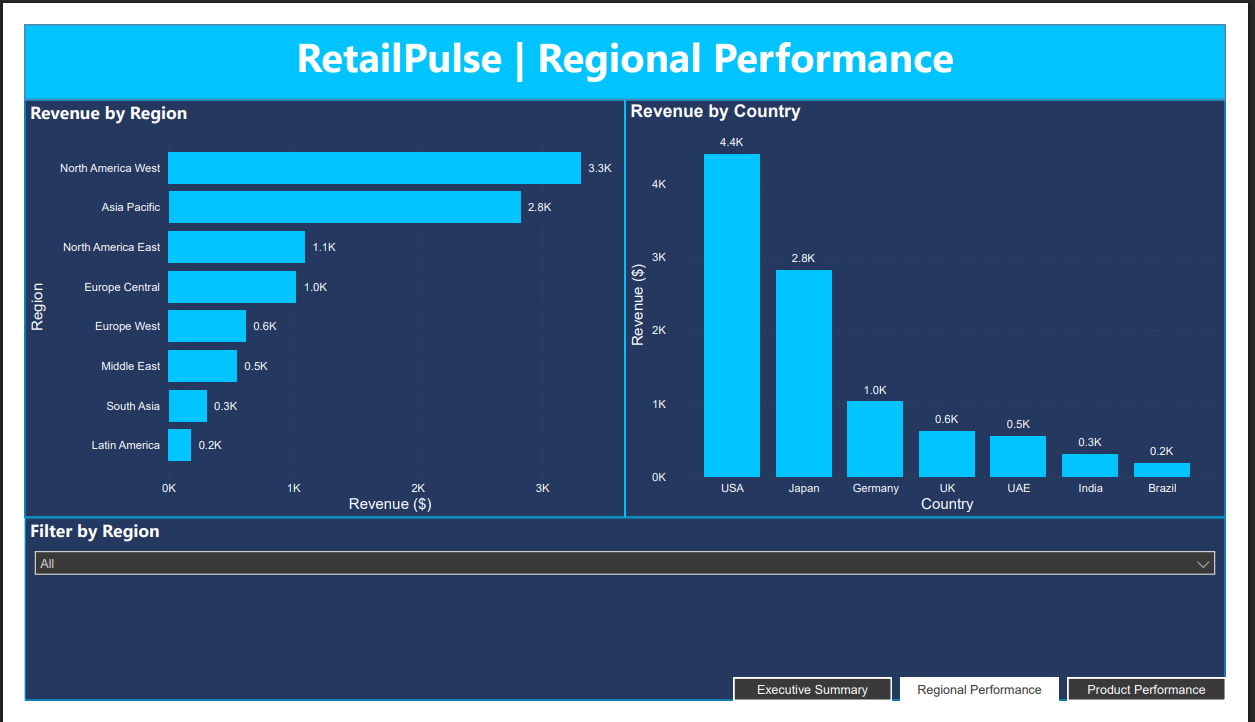

Layout of this report page (visuals, bound fields, positions):
{"tool":"powerbi","page":{"name":"Regional Performance","canvas":[1280,720],"ordinal":1},"visuals":[{"type":"clusteredBarChart","title":"Revenue by Region","fields":{"Category":["public regions.region_name"],"Y":["Sum(public order_items.price_at_purchase)"]},"box":[0,80,640,445],"z":0},{"type":"clusteredColumnChart","title":"Revenue by Country","fields":{"Category":["public regions.country"],"Y":["Sum(public order_items.price_at_purchase)"]},"box":[640,80,640,445],"z":1000},{"type":"slicer","title":"Filter by Region","fields":{"Values":["public regions.region_name"]},"box":[0,525,1280,195],"z":2000},{"type":"shape","box":[0,0,1280,80],"z":2001},{"type":"textbox","box":[0,0,1280,80],"z":2002},{"type":"pageNavigator","box":[756.2,696.2,523.8,23.8],"z":2003}]}

Visuals, with their boxes in screenshot pixels (x1, y1, x2, y2), scaled from the page's 1280x720 canvas onto the 1255x722 screenshot:
"Revenue by Region" clusteredBarChart: [0, 80, 628, 526]
"Revenue by Country" clusteredColumnChart: [628, 80, 1254, 526]
"Filter by Region" slicer: [0, 526, 1254, 721]
shape: [0, 0, 1254, 80]
textbox: [0, 0, 1254, 80]
pageNavigator: [741, 698, 1254, 721]
